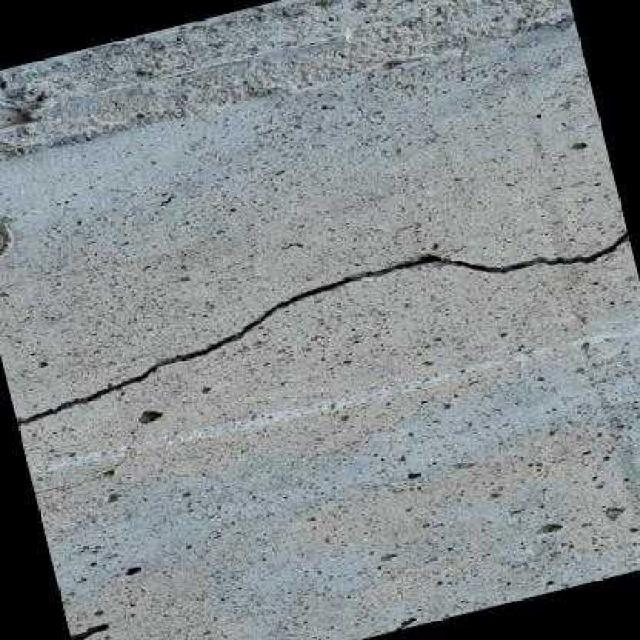D00: (14, 230, 630, 427)
